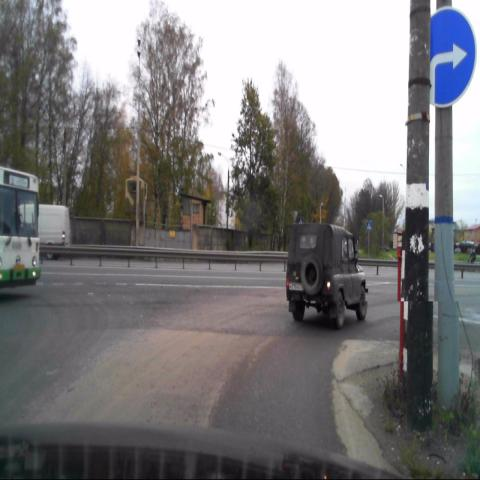4_1_2: (415, 7, 476, 110)
